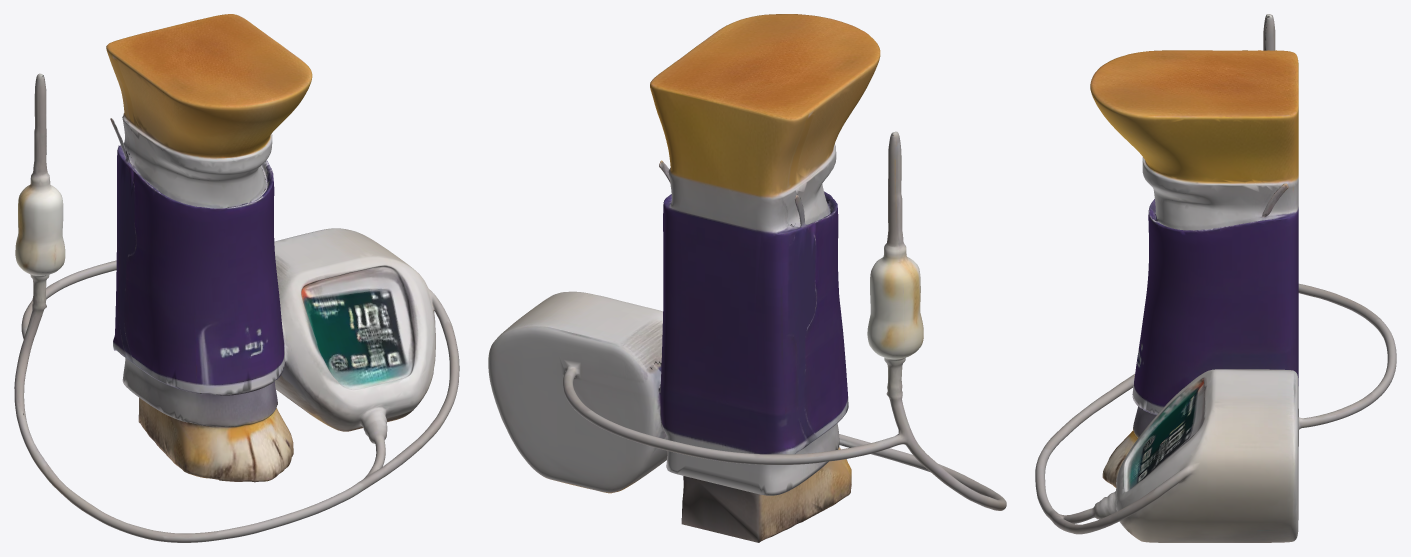
The model's file is vet_equip_blood_pressure.glb.
3 renders of one model, left to right at view 1: azimuth 30°, elevation 25°; view 2: azimuth 150°, elevation 25°; view 3: azimuth 270°, elevation 25°, orthographic. The views are drawn at different scales.
Parts seen in each view (by area): view 1: model; view 2: model; view 3: model.
Part boxes in pixels (left/top/right/bottom): model: left=14, top=14, right=459, bottom=542; model: left=488, top=14, right=1006, bottom=542; model: left=1035, top=14, right=1396, bottom=542.
Size of the model in its own units: 1.9 by 1.83 by 1.45.
1 material, 1 textured.
